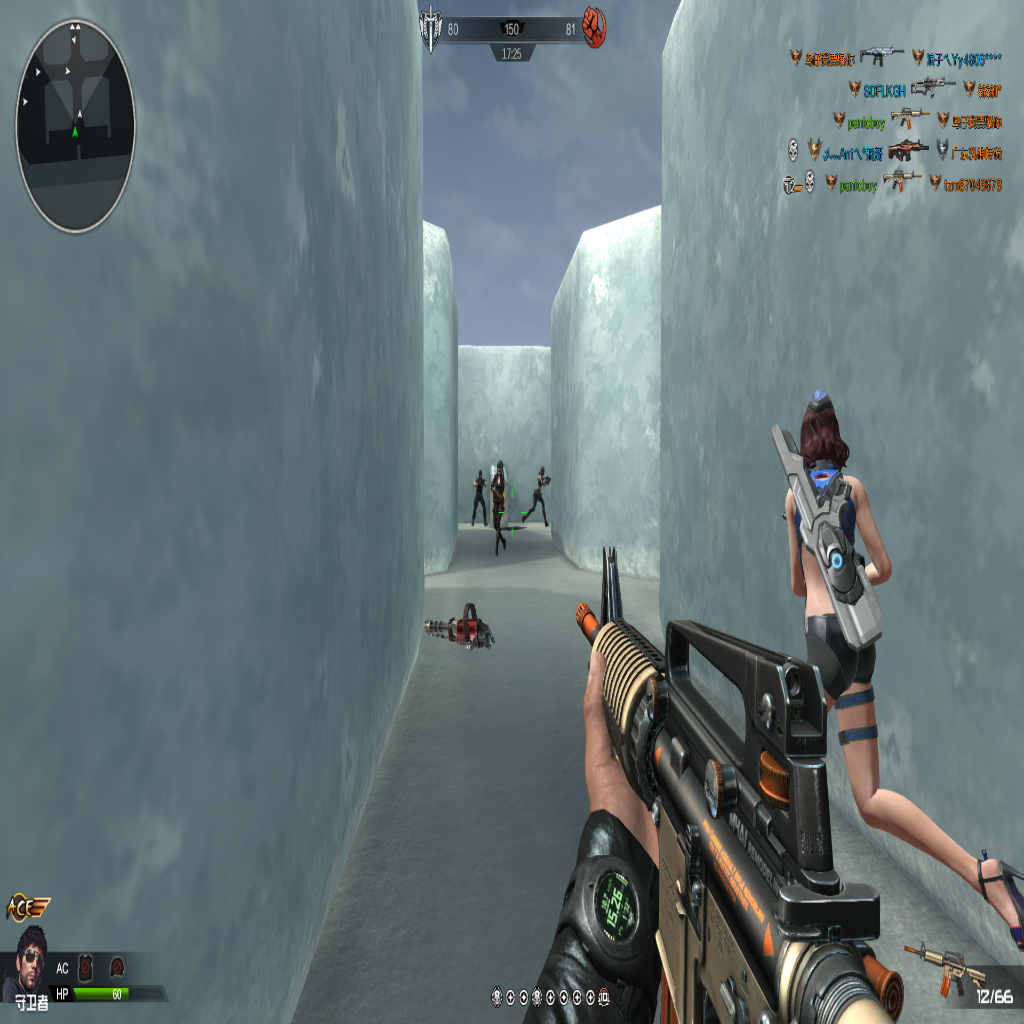ct: (760, 366, 1013, 960), (490, 457, 509, 557), (524, 465, 550, 527), (470, 467, 487, 523)
